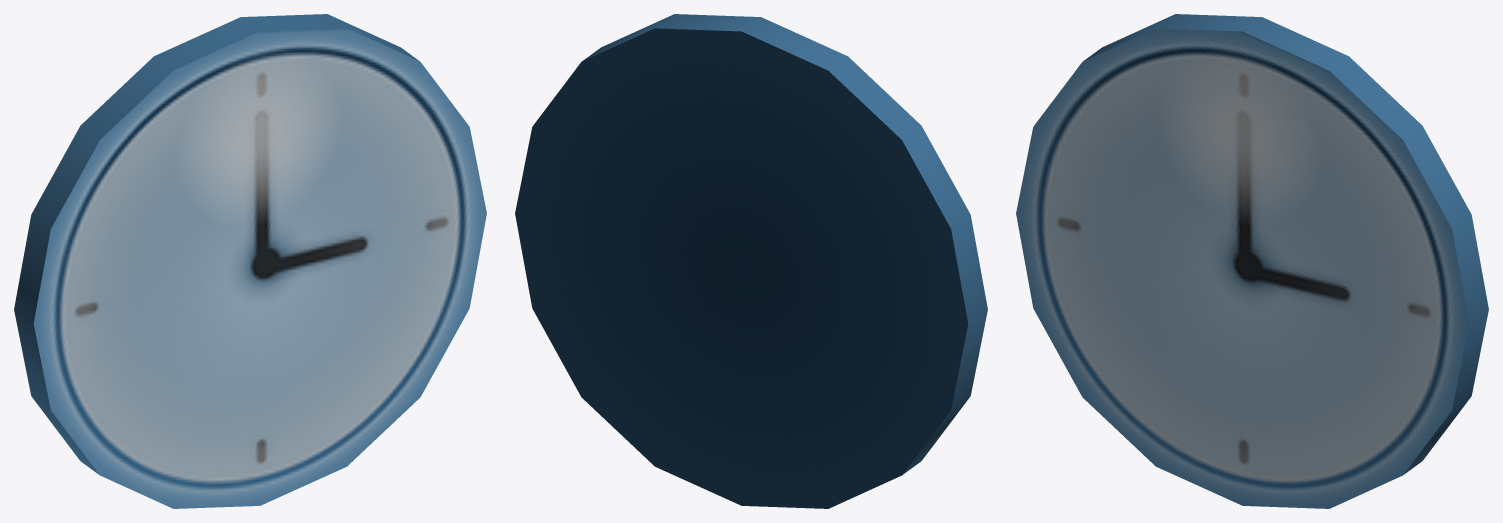
File: AnimeChibi-SchoolPack2-WallClock.fbx
3 views of the same model, side by side, from view 1: azimuth 30°, elevation 25°; view 2: azimuth 150°, elevation 25°; view 3: azimuth 330°, elevation 25° (orthographic).
Visible parts, largest first — view 1: wallclock; view 2: wallclock; view 3: wallclock.
Boxes of the visible parts, box(x1,y1,x2,y2) form: wallclock: box(14, 14, 486, 508); wallclock: box(515, 14, 987, 508); wallclock: box(1016, 14, 1488, 508).
Size of the model in its own units: 7.27 by 7.27 by 0.5449.
